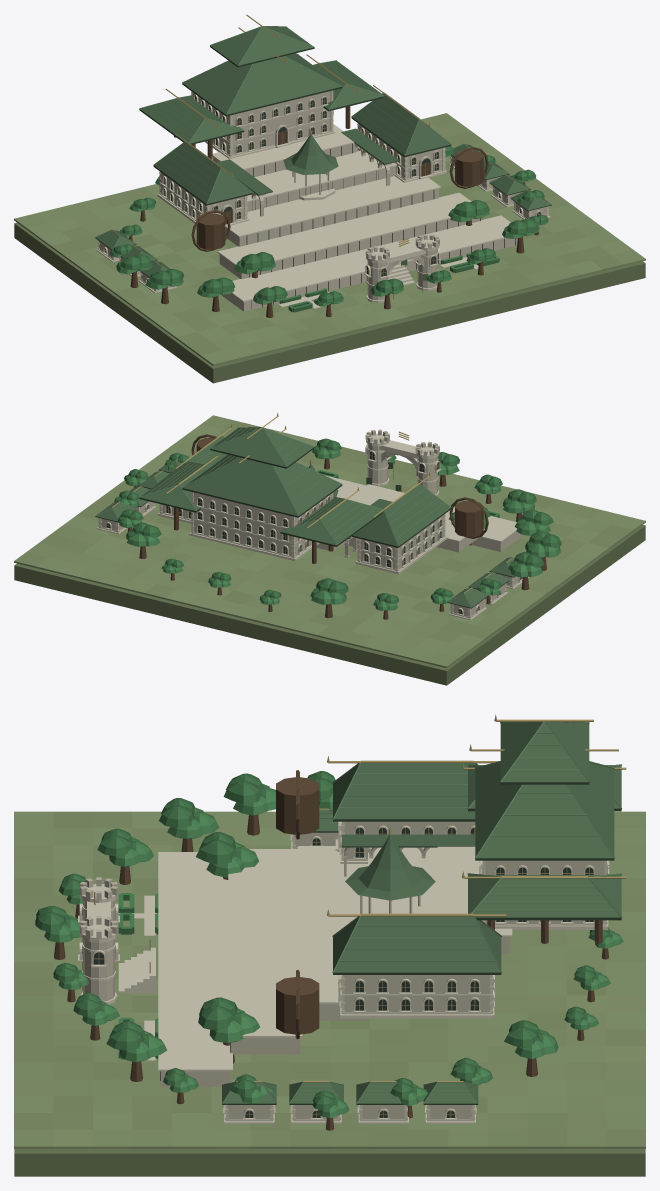
File: paddy.glb
The picture shows the model from 3 angles, top to bottom: view 1: azimuth 30°, elevation 25°; view 2: azimuth 150°, elevation 25°; view 3: azimuth 270°, elevation 25°; orthographic projection. The views are drawn at different scales.
Visible parts, largest first — view 1: site, terraces, prefecture-roof, side-galleries-roof, landscape, side-galleries, prefecture, water-stair, landscape-roof; view 2: site, prefecture-roof, landscape, prefecture, side-galleries, side-galleries-roof, terraces, water-stair, landscape-roof, water-stair-roof; view 3: site, terraces, prefecture-roof, side-galleries-roof, landscape, side-galleries, water-stair, landscape-roof, prefecture, water-stair-roof.
Boxes of the visible parts, box(x1,y1,x2,y2) form: site: box(14, 113, 645, 383); terraces: box(212, 124, 517, 311); prefecture-roof: box(139, 14, 384, 144); side-galleries-roof: box(153, 85, 451, 205); landscape: box(96, 146, 550, 317); side-galleries: box(157, 123, 488, 251); prefecture: box(174, 90, 350, 159); water-stair: box(234, 200, 499, 314); landscape-roof: box(95, 143, 551, 277); site: box(14, 415, 645, 685); prefecture-roof: box(139, 413, 382, 546); landscape: box(96, 427, 561, 620); prefecture: box(174, 492, 350, 563); side-galleries: box(157, 434, 488, 574); side-galleries-roof: box(153, 424, 451, 547); terraces: box(316, 475, 522, 552); water-stair: box(307, 433, 503, 545); landscape-roof: box(95, 459, 515, 608); water-stair-roof: box(365, 429, 439, 456); site: box(14, 811, 645, 1176); terraces: box(118, 846, 512, 1086); prefecture-roof: box(462, 714, 626, 920); side-galleries-roof: box(327, 756, 506, 974); landscape: box(35, 771, 623, 1130); side-galleries: box(276, 770, 494, 1039); water-stair: box(78, 832, 260, 1063); landscape-roof: box(222, 808, 478, 1104); prefecture: box(479, 860, 609, 943); water-stair-roof: box(80, 877, 117, 939).
Bounding box in the file's own units: 59.01 × 24.25 × 47.06.
